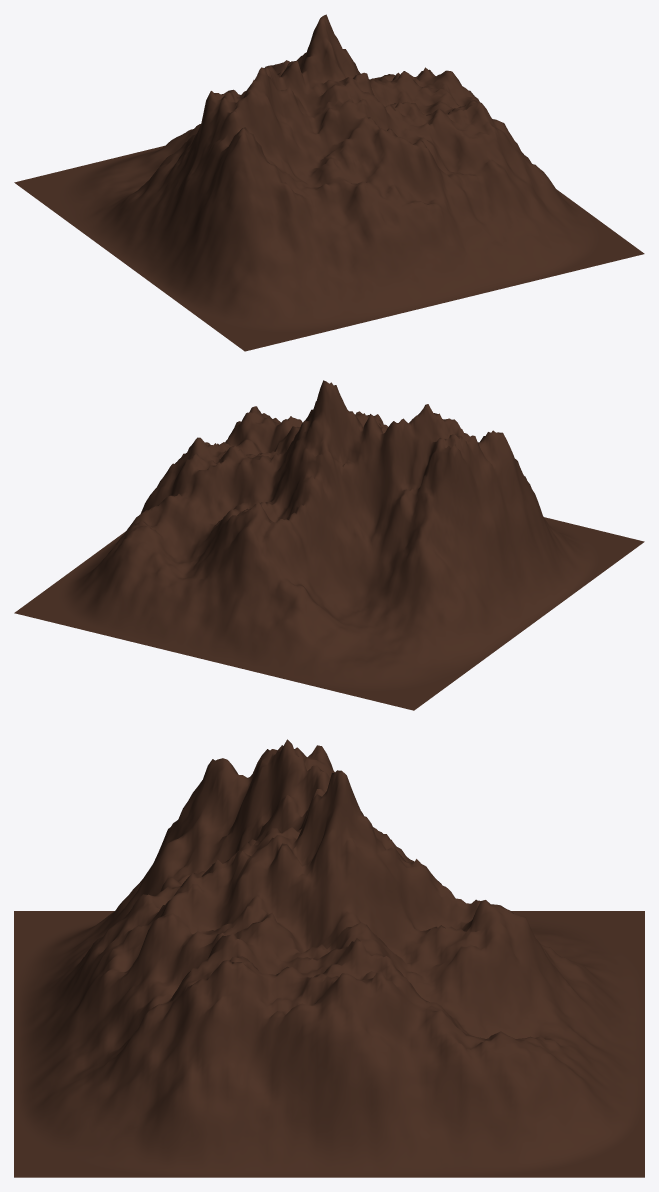
The picture shows the model from 3 angles, top to bottom: view 1: azimuth 30°, elevation 25°; view 2: azimuth 150°, elevation 25°; view 3: azimuth 270°, elevation 25°; orthographic projection. The views are drawn at different scales.
Visible parts, largest first — view 1: Landscape; view 2: Landscape; view 3: Landscape.
Part boxes in pixels (bbox=[...]): Landscape: bbox=[14, 14, 644, 351]; Landscape: bbox=[14, 380, 644, 710]; Landscape: bbox=[14, 739, 644, 1177].
Bounding box in the file's own units: 1725 × 825 × 1725.
